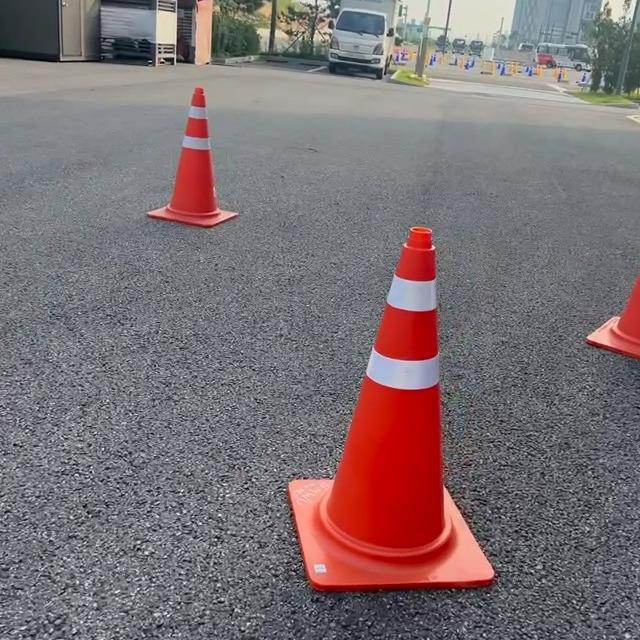fallen_object: (203, 161, 534, 640), (149, 50, 243, 272)
